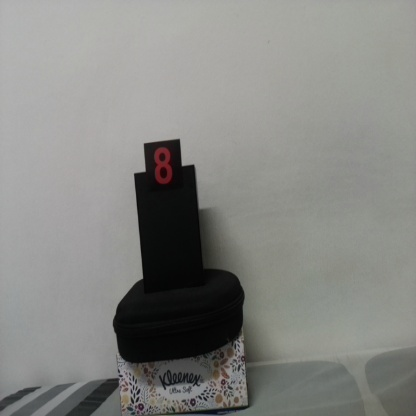id_8: (144, 144, 182, 197)
